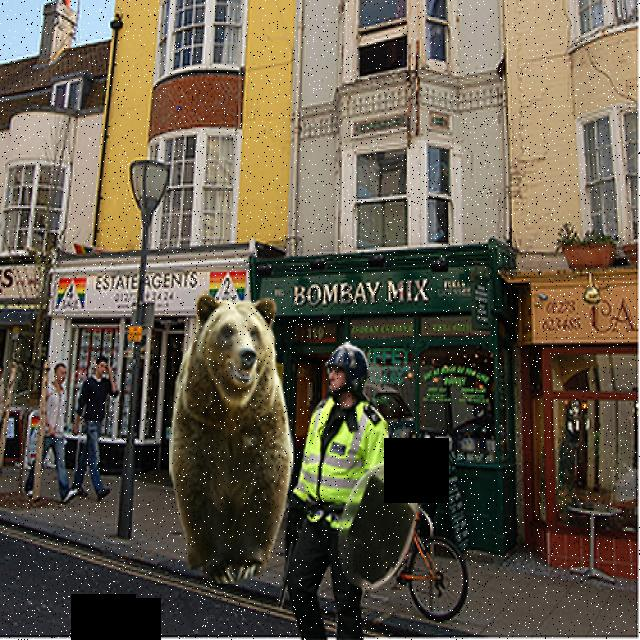Bear: (174, 290, 286, 582)
